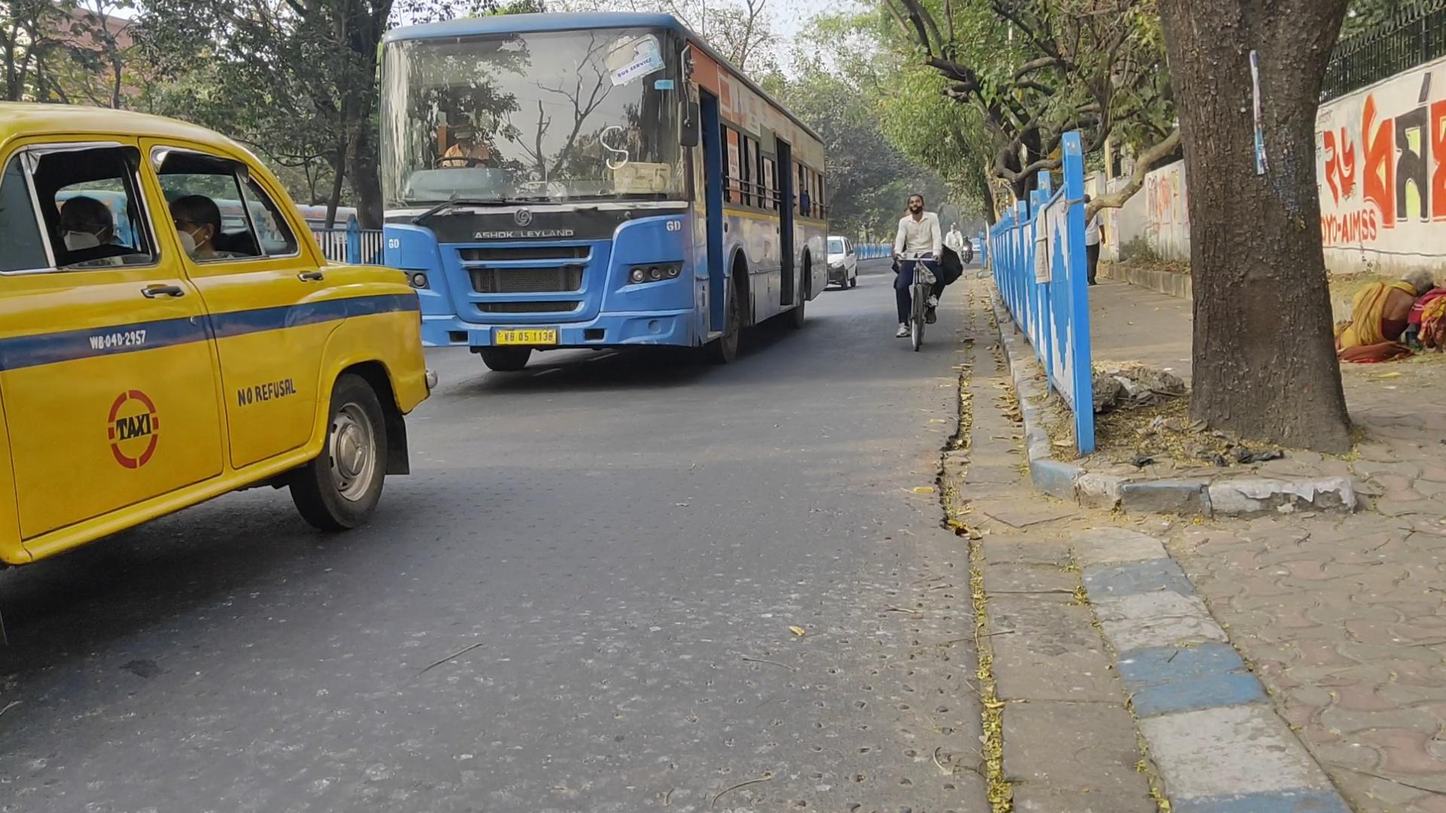Bus: (377, 14, 828, 374)
bike: (893, 194, 953, 354), (960, 235, 974, 264)
car: (2, 99, 436, 597), (829, 235, 862, 288)
